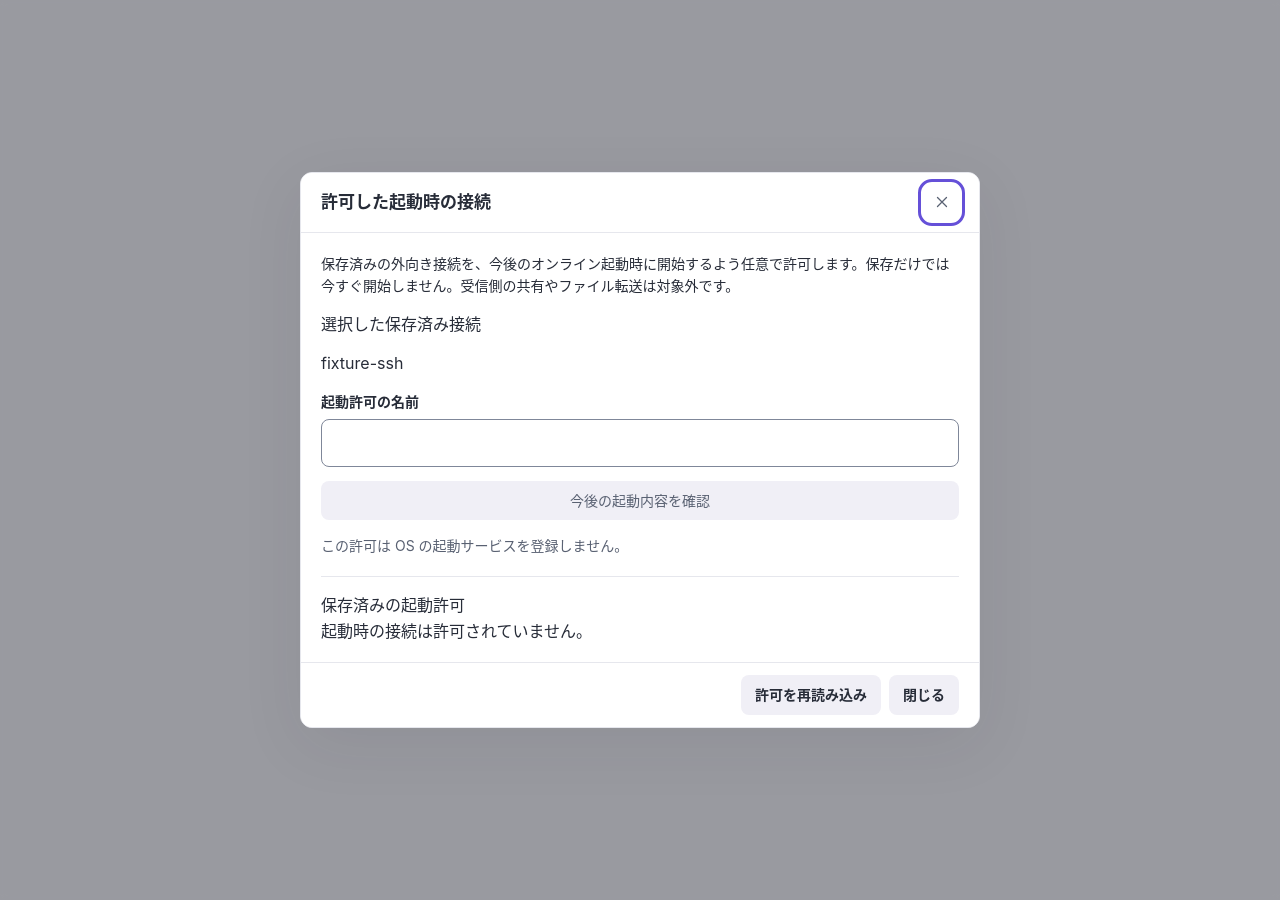
Scenario: explicit future outbound startup › reviews exact finite scope before save and never starts now (ja)
Expected: the button "許可を再読み込み" is enabled, left=741, top=676, right=881, bottom=715
Type "fixture-startup" into the field labelled "起動許可の名前" at (640, 443), box left=321, top=419, right=959, bottom=467
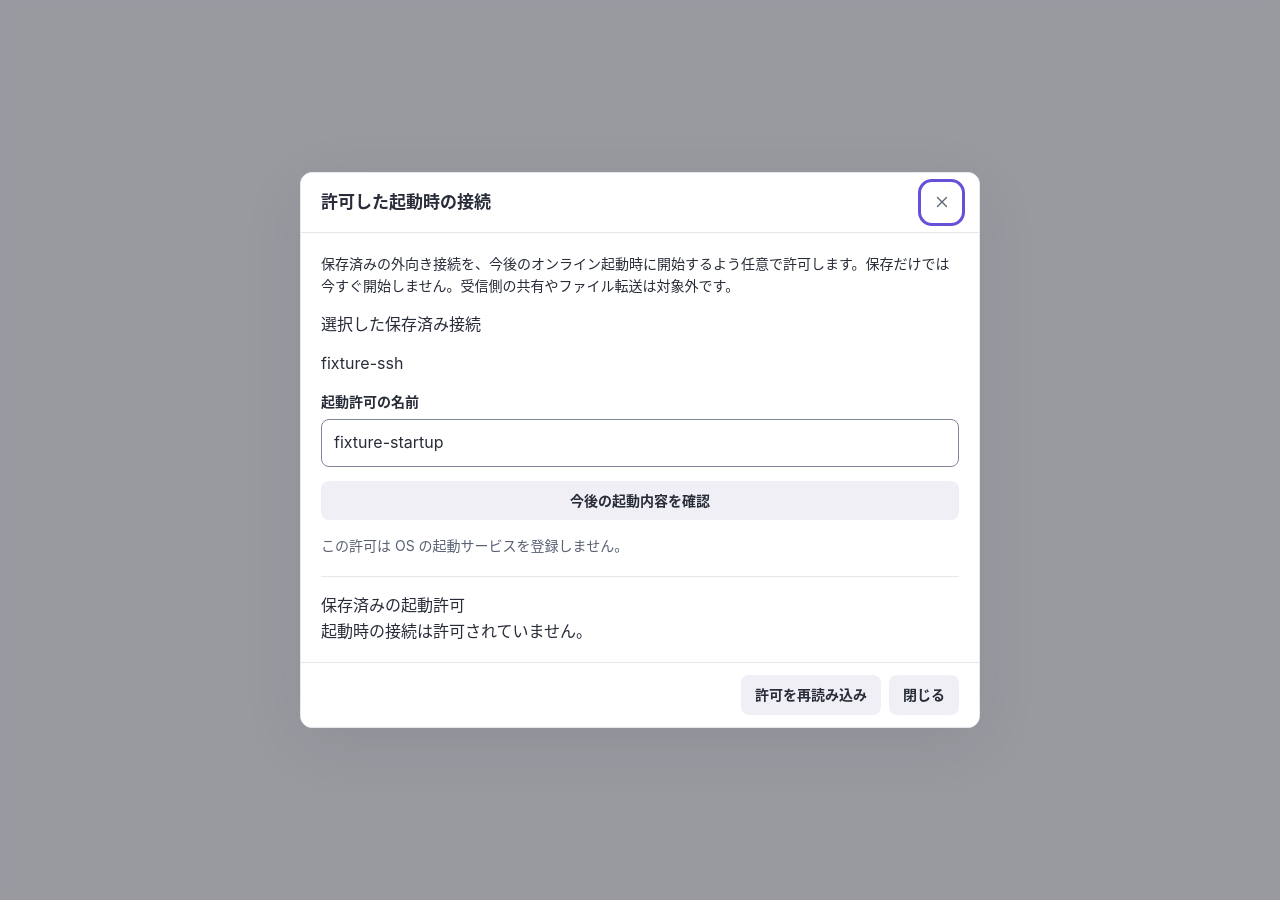
Click the button "今後の起動内容を確認" at (640, 501), box left=321, top=481, right=959, bottom=520
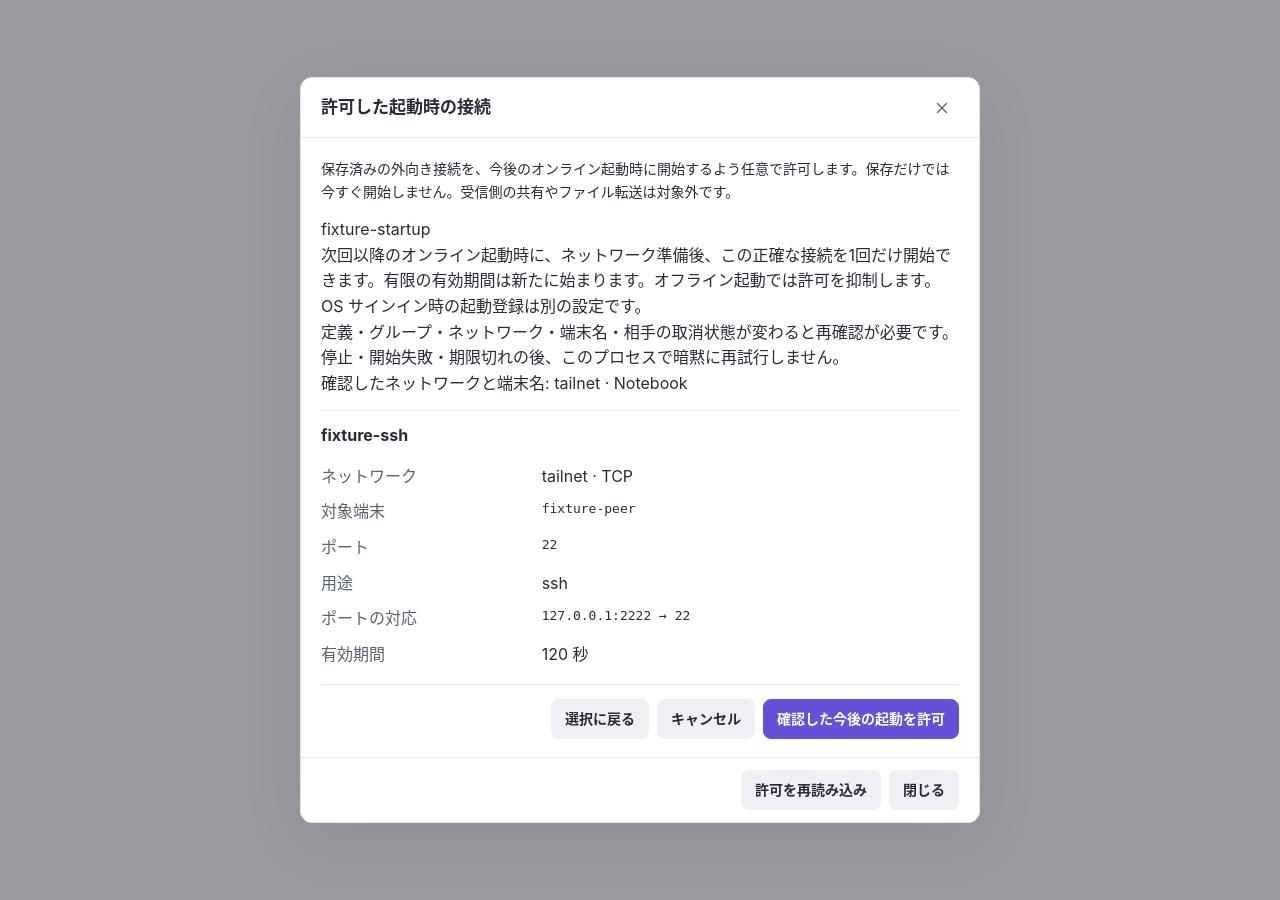
Result: the element named "起動範囲を確認" shows "fixture-peer" at left=542, top=502, right=636, bottom=516
Result: the element named "起動範囲を確認" shows "127.0.0.1:2222 → 22" at left=321, top=217, right=959, bottom=739
Result: the element named "起動範囲を確認" shows "120" at left=542, top=644, right=589, bottom=664
Click the button "確認した今後の起動を許可" at (861, 719), box left=763, top=700, right=959, bottom=739
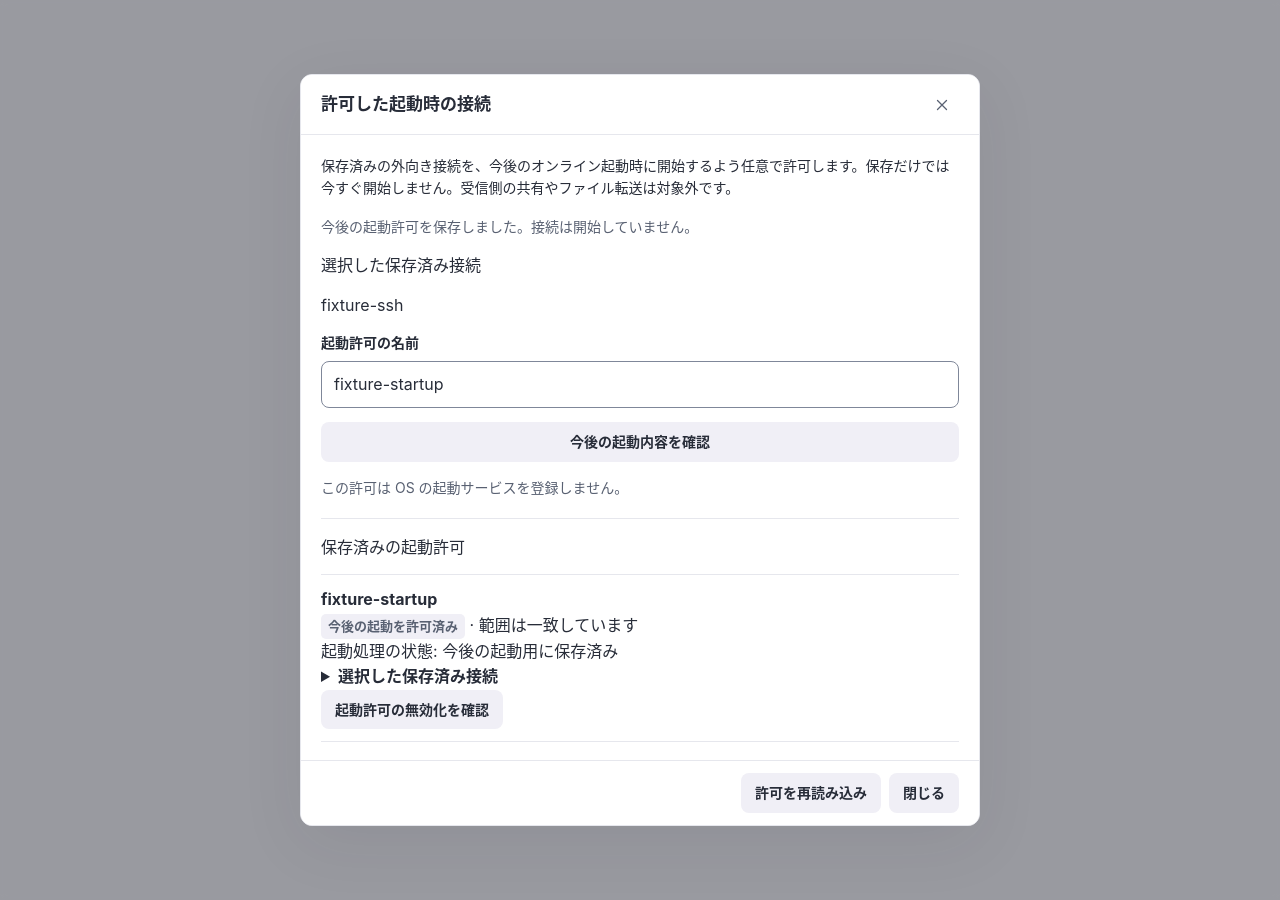
Result: the message reads "今後の起動許可を保存しました。接続は開始していません。" at left=321, top=218, right=698, bottom=235
